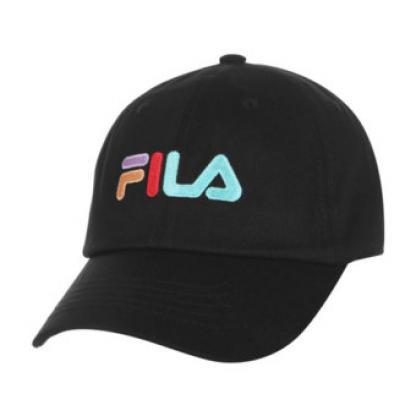cap: (20, 47, 392, 364)
